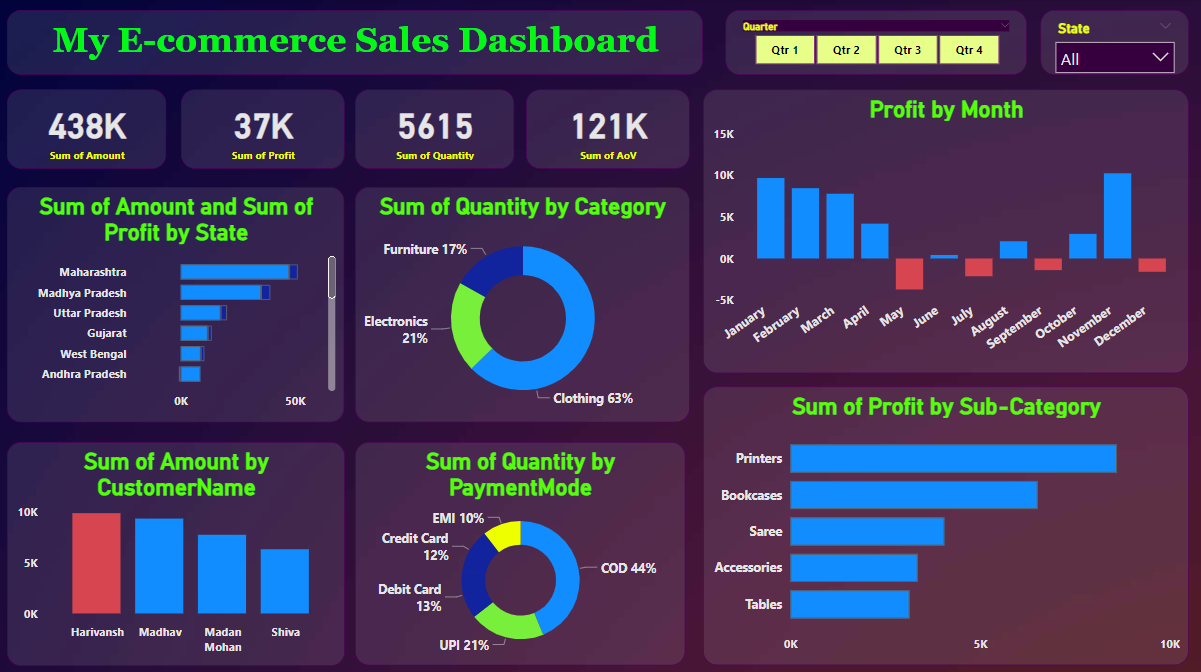

The dashboard page shown, as its layout file describes it:
{"tool":"powerbi","page":{"name":"Online Store Dashboard","canvas":[1280,720],"ordinal":0},"visuals":[{"type":"textbox","box":[9.5,12.7,737.5,68.3],"z":0},{"type":"columnChart","title":"Profit by Month","fields":{"Category":["Orders.Order Date.Variation.Date Hierarchy.Month"],"Y":["Details.Profit"]},"box":[747,97,515,300.4],"z":1000},{"type":"barChart","fields":{"Category":["Details.Sub-Category"],"Y":["Details.Profit"]},"box":[747,411.7,515,295.6],"z":2000},{"type":"donutChart","fields":{"Category":["Details.Category"],"Y":["Details.Quantity"]},"box":[378.3,200.3,354.4,249.5],"z":3000},{"type":"donutChart","fields":{"Y":["Details.Quantity"],"Category":["Details.PaymentMode"]},"box":[378.3,470.5,349.7,236.8],"z":4000},{"type":"card","fields":{"Values":["Details.Amount"]},"box":[9.5,97,168.5,84.2],"z":5000},{"type":"card","fields":{"Values":["Details.Quantity"]},"box":[378.3,97,168.5,84.2],"z":6000},{"type":"card","fields":{"Values":["Details.Profit"]},"box":[193.9,97,173.2,84.2],"z":7000},{"type":"card","fields":{"Values":["Details.AoV"]},"box":[559.5,97,173.2,84.2],"z":8000},{"type":"barChart","fields":{"Category":["Orders.State","Details.Sub-Category"],"Y":["Details.Amount","Details.Profit"]},"box":[9.5,200.3,357.6,249.5],"z":9000},{"type":"columnChart","fields":{"Category":["Orders.CustomerName"],"Y":["Details.Amount"]},"box":[10,470,358,237],"z":10000},{"type":"slicer","fields":{"Values":["Orders.Order Date.Variation.Date Hierarchy.Quarter"]},"box":[770.9,12.7,319.5,68.3],"z":11000},{"type":"slicer","fields":{"Values":["Orders.State"]},"box":[1104.6,12.7,157.4,68.3],"z":12000}]}

Visuals, with their boxes in screenshot pixels (x1, y1, x2, y2), scaled from the page's 1280x720 canvas onto the 1201x672 screenshot:
textbox: [9, 12, 701, 76]
"Profit by Month" columnChart: [701, 91, 1184, 371]
barChart - Details.Sub-Category x Details.Profit: [701, 384, 1184, 660]
donutChart - Details.Category x Details.Quantity: [355, 187, 687, 420]
donutChart - Details.Quantity x Details.PaymentMode: [355, 439, 683, 660]
card - Details.Amount: [9, 91, 167, 169]
card - Details.Quantity: [355, 91, 513, 169]
card - Details.Profit: [182, 91, 344, 169]
card - Details.AoV: [525, 91, 687, 169]
barChart - Orders.State x Details.Sub-Category: [9, 187, 344, 420]
columnChart - Orders.CustomerName x Details.Amount: [9, 439, 345, 660]
slicer - Orders.Order Date.Variation.Date Hierarchy.Quarter: [723, 12, 1023, 76]
slicer - Orders.State: [1036, 12, 1184, 76]
